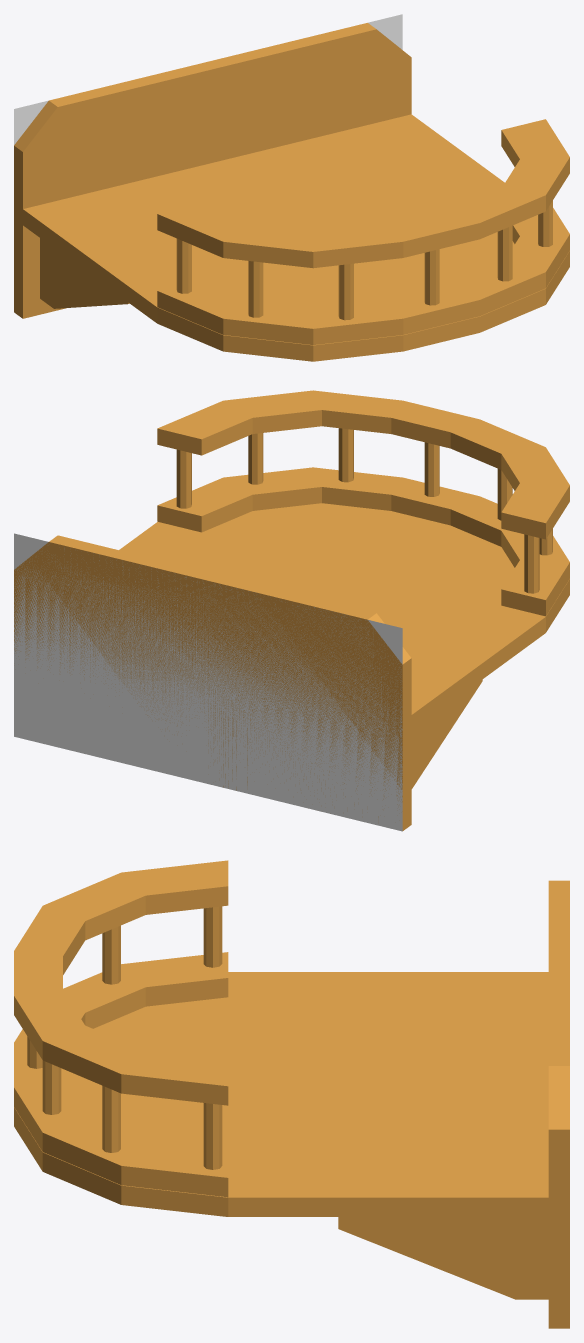
Rendered from wall-rail-platform.glb.
The picture shows the model from 3 angles, top to bottom: view 1: azimuth 30°, elevation 25°; view 2: azimuth 150°, elevation 25°; view 3: azimuth 270°, elevation 25°; orthographic projection. The views are drawn at different scales.
Parts seen in each view (by area): view 1: 立方体.009, 立方体.008, 柱体.001, 平面.025, 围栏跳台; view 2: 立方体.009, 围栏跳台, 立方体.008, 柱体.001, 平面.025; view 3: 立方体.009, 平面.025, 立方体.008, 柱体.001.
Part boxes in pixels (box(x1,y1,x2,y2)): 立方体.009: box(23, 114, 569, 361); 立方体.008: box(14, 23, 411, 318); 柱体.001: box(176, 201, 552, 320); 平面.025: box(40, 238, 129, 308); 围栏跳台: box(14, 14, 402, 144); 立方体.009: box(119, 390, 569, 730); 围栏跳台: box(14, 533, 402, 831); 立方体.008: box(14, 535, 411, 830); 柱体.001: box(176, 428, 552, 593); 平面.025: box(411, 679, 482, 788); 立方体.009: box(14, 860, 548, 1216); 平面.025: box(338, 1217, 548, 1299); 立方体.008: box(548, 880, 569, 1328); 柱体.001: box(27, 906, 222, 1169).
Bounding box in the file's own units: 0.4 × 0.2 × 0.416.
